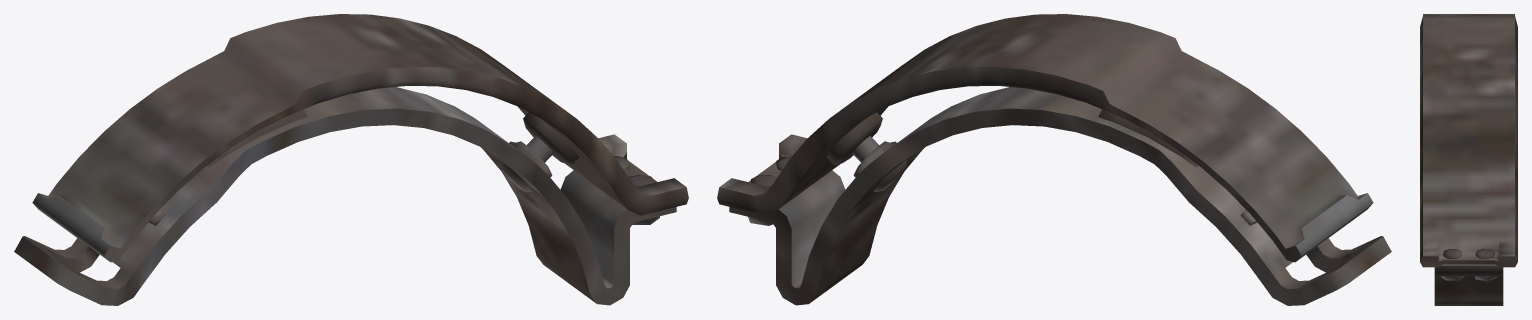
Rendered from HeavyWeapons_Vladof_Shoulder_3.obj.
3 renders of one model, left to right at view 1: azimuth 30°, elevation 25°; view 2: azimuth 150°, elevation 25°; view 3: azimuth 270°, elevation 25°, orthographic. The views are drawn at different scales.
Parts seen in each view (by area): view 1: SK_HW_VLA.324, SK_HW_VLA.323, SK_HW_VLA.333; view 2: SK_HW_VLA.324, SK_HW_VLA.323, SK_HW_VLA.333; view 3: SK_HW_VLA.324, SK_HW_VLA.323, SK_HW_VLA.336, SK_HW_VLA.335, SK_HW_VLA.329, SK_HW_VLA.326.
Boxes of the visible parts, x1=… form: SK_HW_VLA.324: x1=32, y1=14, x2=688, y2=262; SK_HW_VLA.323: x1=14, y1=87, x2=676, y2=305; SK_HW_VLA.333: x1=523, y1=112, x2=578, y2=164; SK_HW_VLA.324: x1=717, y1=14, x2=1373, y2=262; SK_HW_VLA.323: x1=729, y1=87, x2=1391, y2=305; SK_HW_VLA.333: x1=827, y1=112, x2=882, y2=164; SK_HW_VLA.324: x1=1420, y1=14, x2=1517, y2=267; SK_HW_VLA.323: x1=1434, y1=264, x2=1503, y2=305; SK_HW_VLA.336: x1=1475, y1=248, x2=1494, y2=259; SK_HW_VLA.335: x1=1443, y1=249, x2=1461, y2=259; SK_HW_VLA.329: x1=1474, y1=276, x2=1496, y2=281; SK_HW_VLA.326: x1=1441, y1=276, x2=1464, y2=280.
Size of the model in its own units: 29.91 by 14.06 by 6.45.
